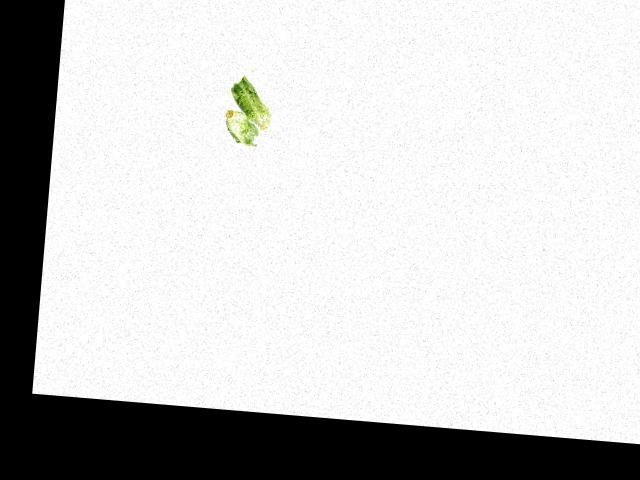lettuce: (214, 76, 275, 150)
